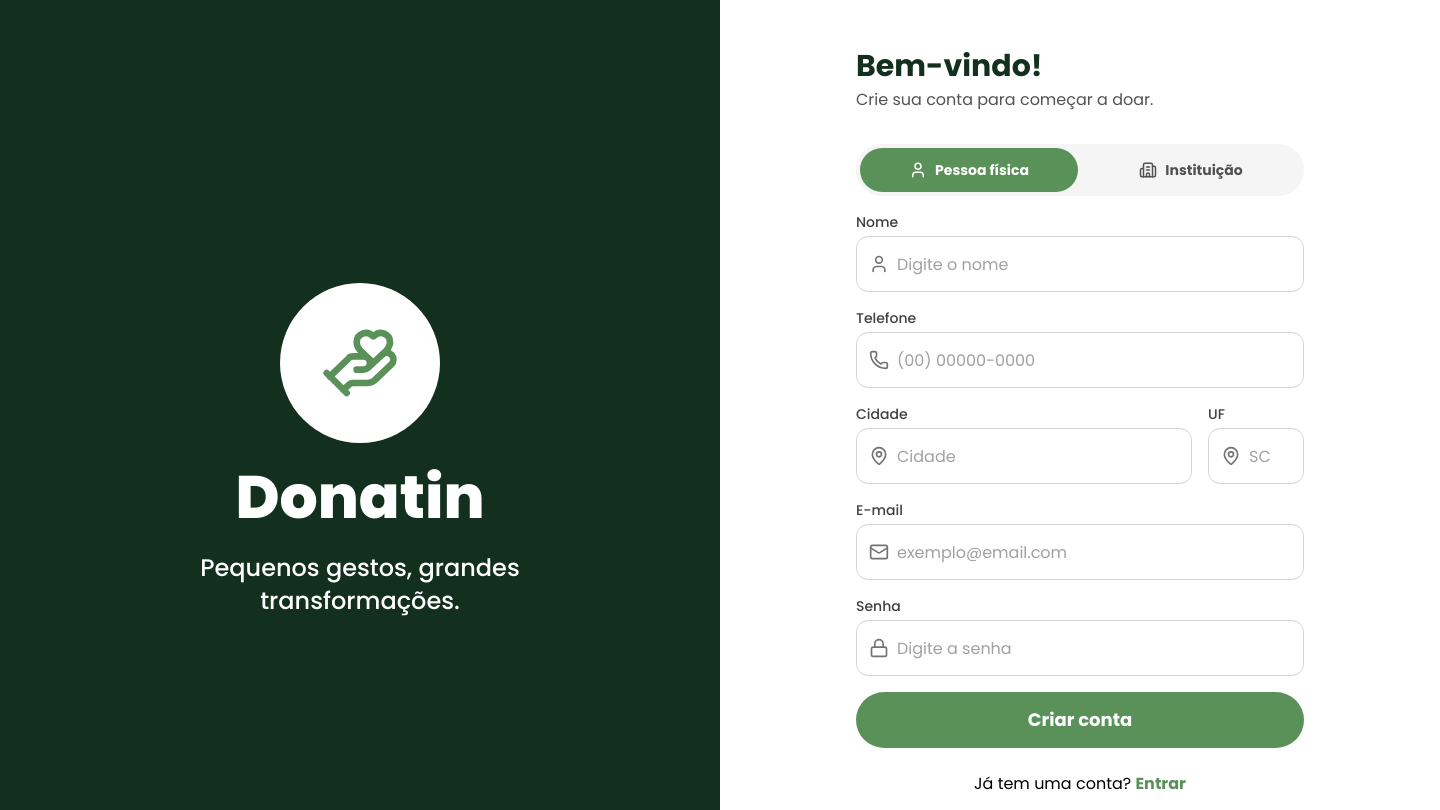
it: RegisterPage › erro geral da API aparece no fim do formulário
The width and height of the screenshot is (1440, 810).
Type "  Maria Souza " into the field labelled "Nome" at (1094,264), box [897,237,1291,291]
Type "47999990000" into the field labelled "Telefone" at (1094,360), box [897,333,1291,387]
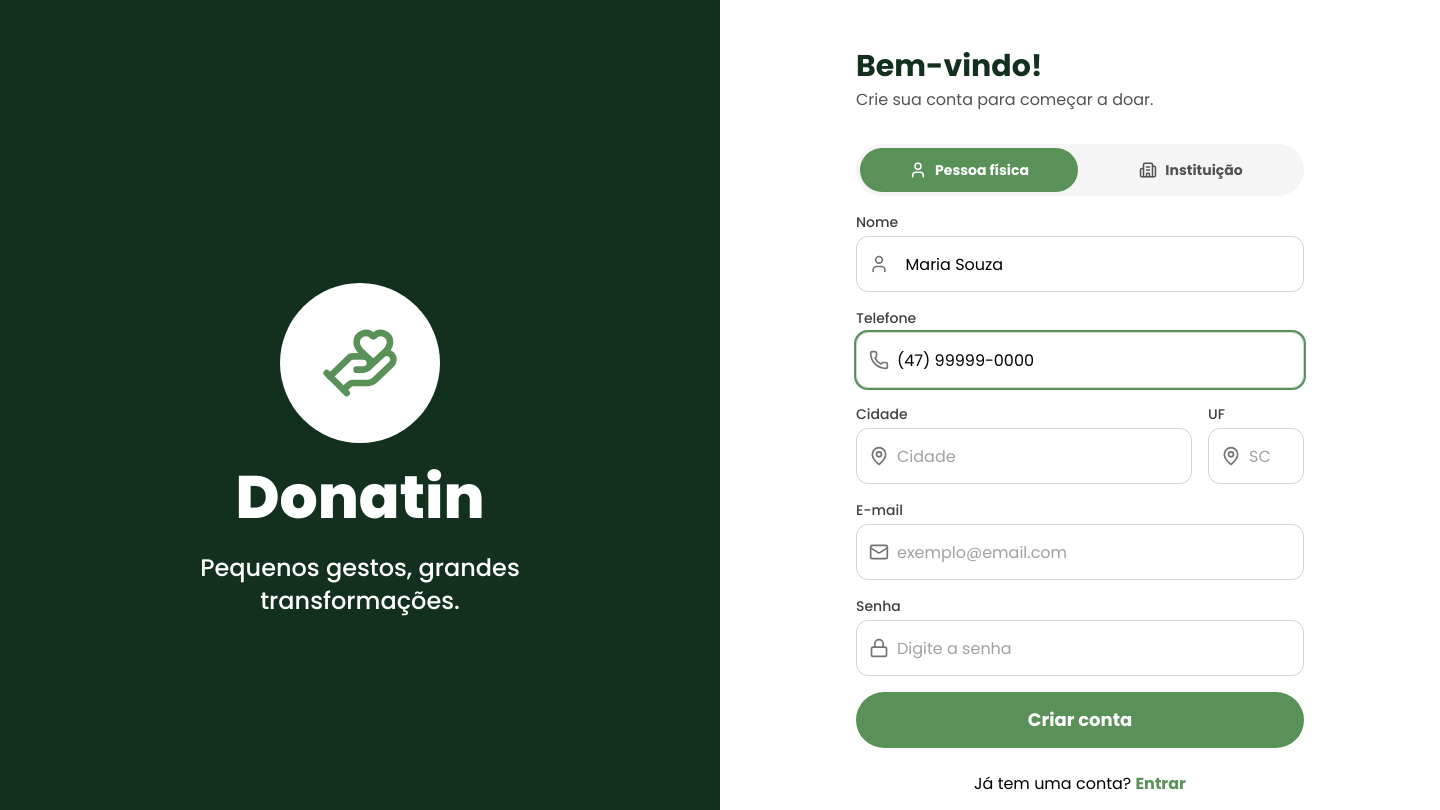
Type "Joinville" into the field labelled "Cidade" at (1038,456), box [897,429,1179,483]
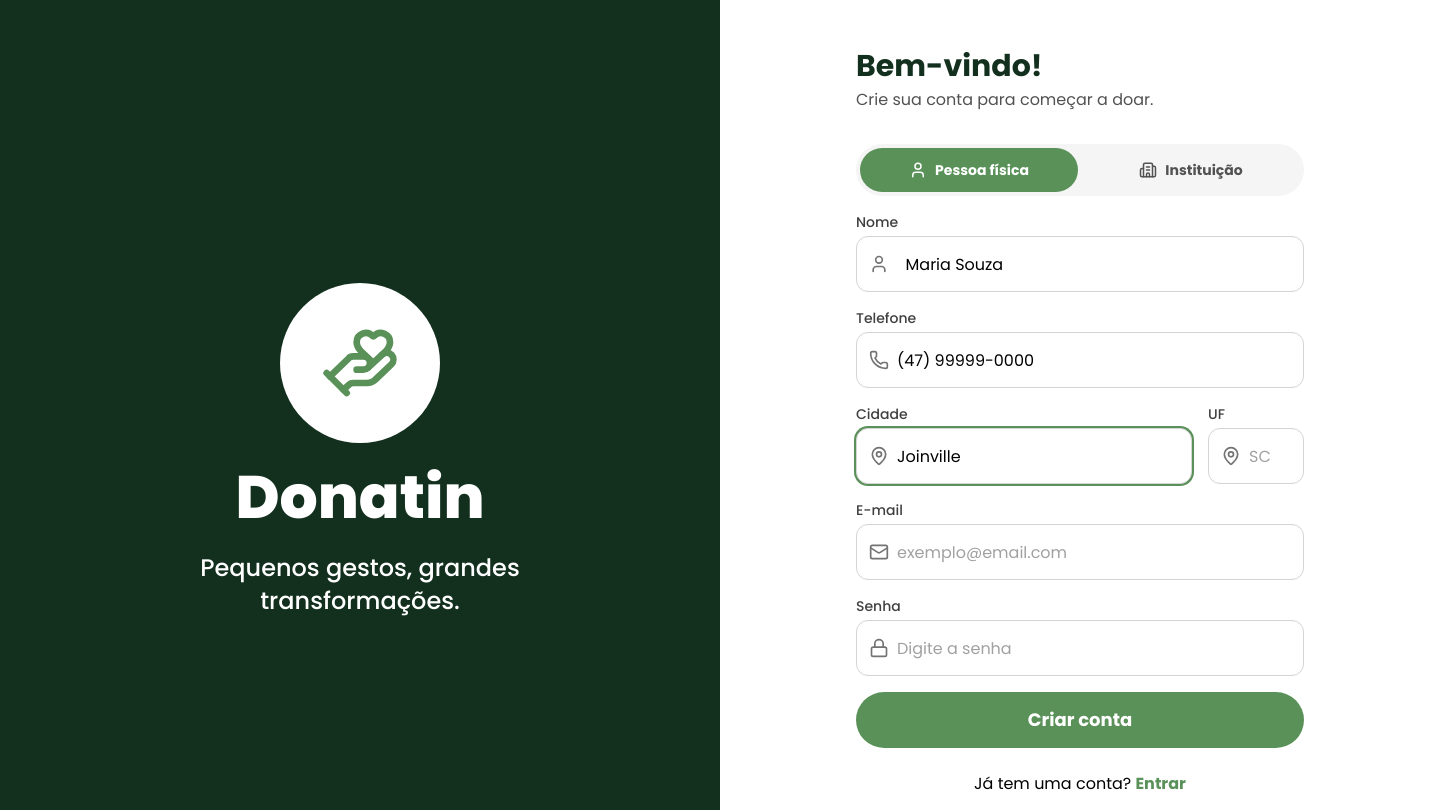
Type "sc" into the field labelled "UF" at (1270,456), box [1249,429,1291,483]
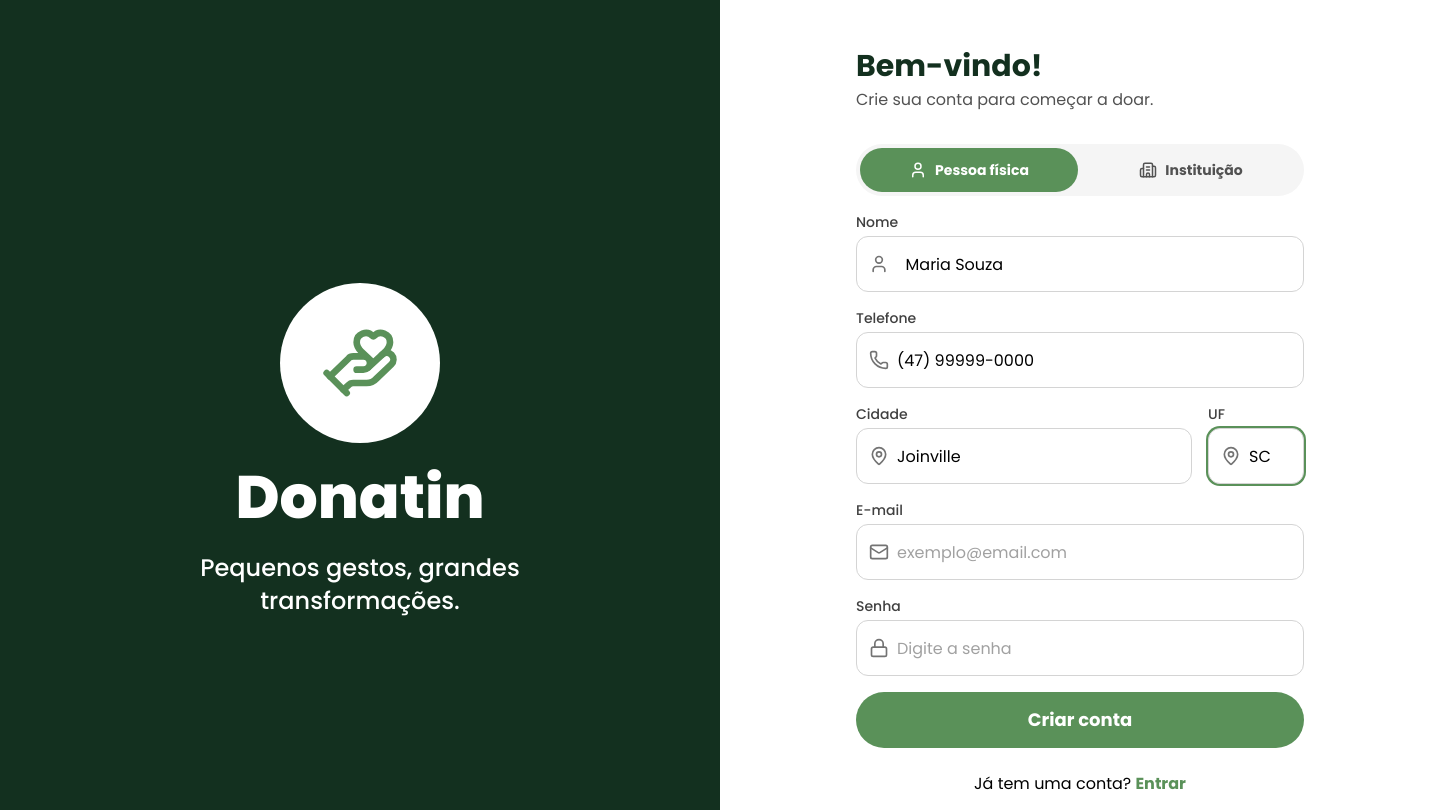
Type "maria@email.com" into the field labelled "E-mail" at (1094,552), box [897,525,1291,579]
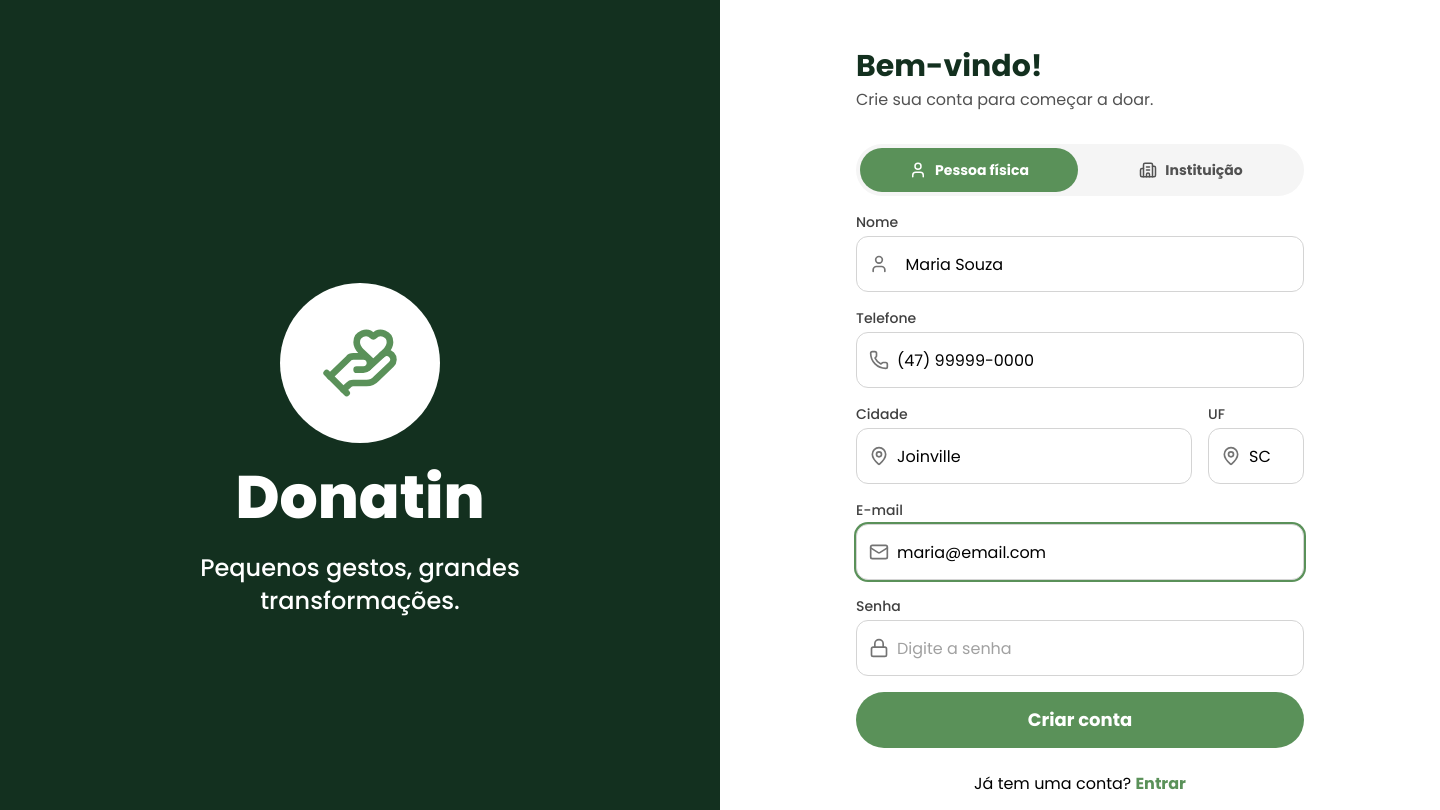
Type "Senha@123" into the password field labelled "Senha" at (1094,648), box [897,621,1291,675]
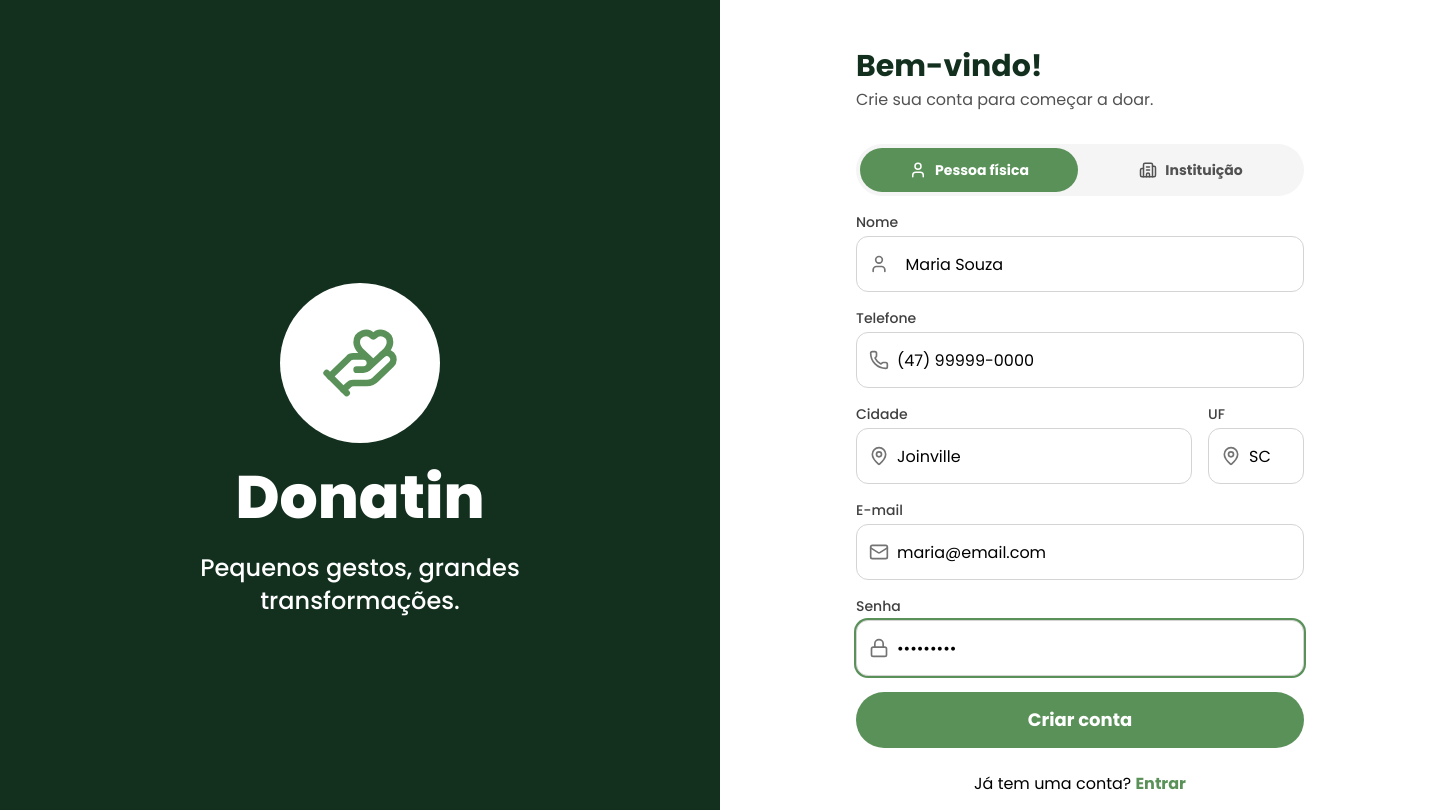
Click the button "Criar conta" at (1080,720), box [856,692,1304,748]
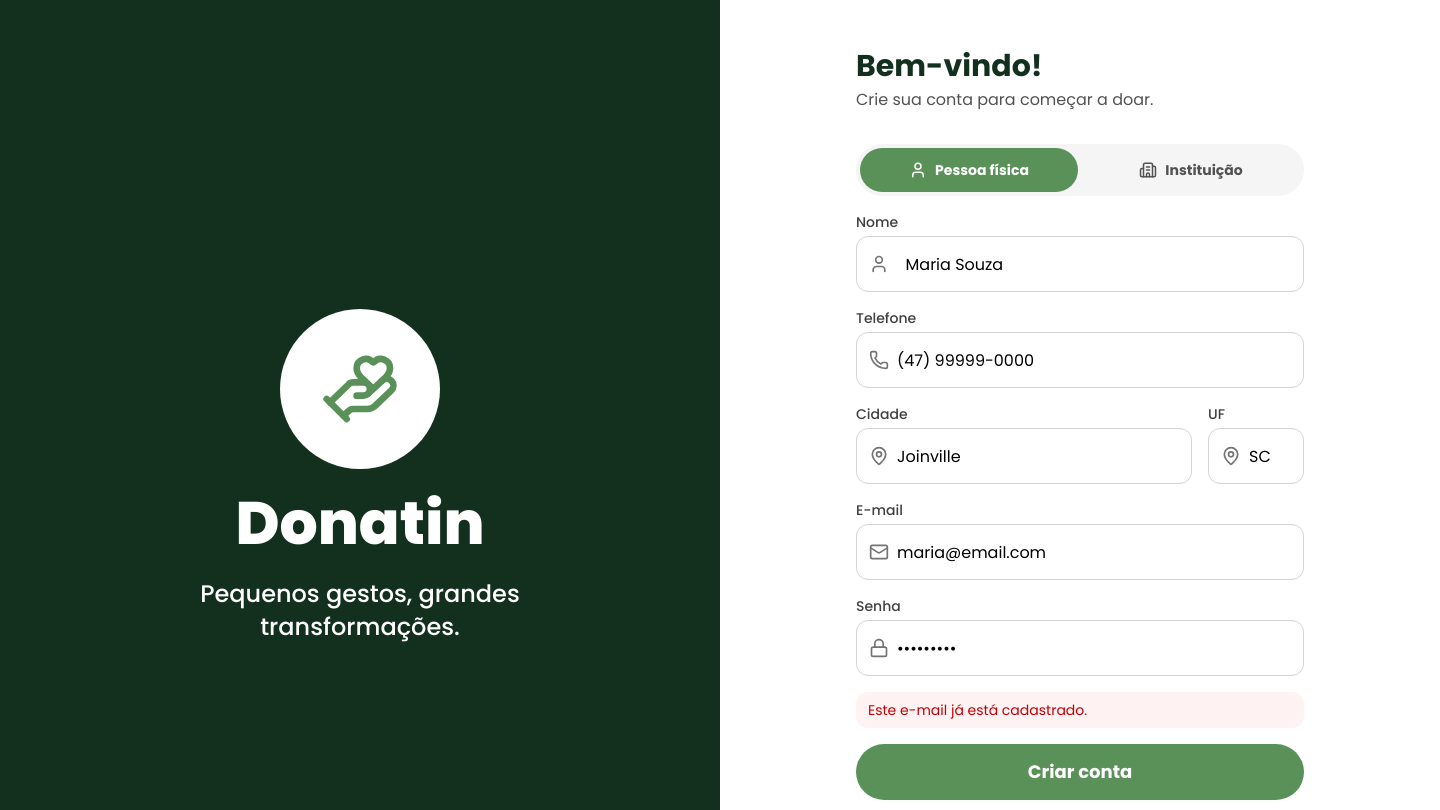
Expected: the message reads "Este e-mail já está cadastrado.", [868,700,1087,720]
